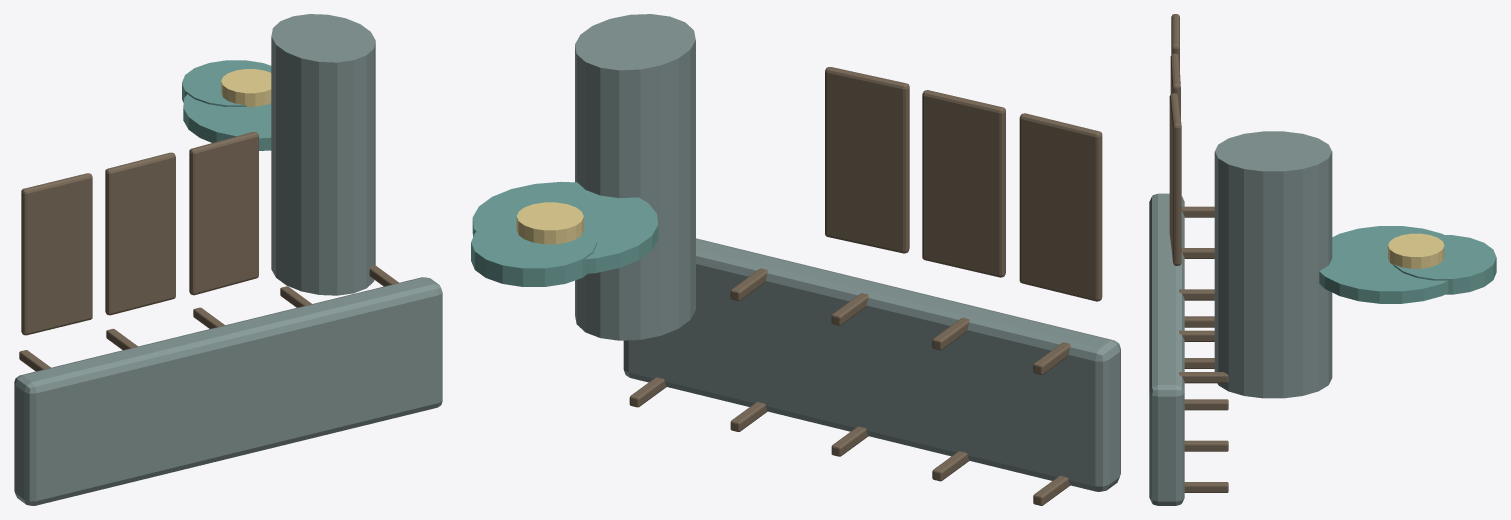
Rendered from region-mist-landmark.glb.
3 renders of one model, left to right at view 1: azimuth 30°, elevation 25°; view 2: azimuth 150°, elevation 25°; view 3: azimuth 270°, elevation 25°, orthographic. The views are drawn at different scales.
Parts seen in each view (by area): view 1: raised stone causeway, tapered harbor beacon, broken dock deck, broken dock deck.001, broken dock deck.002, beacon gallery, beacon copper roof, warm beacon lantern; view 2: raised stone causeway, tapered harbor beacon, broken dock deck.002, broken dock deck.001, broken dock deck, beacon gallery, beacon copper roof, warm beacon lantern; view 3: tapered harbor beacon, raised stone causeway, beacon gallery, beacon copper roof, broken dock deck.002, warm beacon lantern, causeway mooring post.009, causeway mooring post.002, causeway mooring post.003, causeway mooring post.004, broken dock deck.001, causeway mooring post.008 (+2 smaller).
Boxes of the visible parts, x1,y1,x2,y2 form: raised stone causeway: [14, 277, 442, 505]; tapered harbor beacon: [271, 14, 375, 295]; broken dock deck: [21, 173, 92, 335]; broken dock deck.001: [105, 152, 175, 315]; broken dock deck.002: [189, 132, 258, 295]; beacon gallery: [183, 94, 271, 150]; beacon copper roof: [182, 60, 271, 106]; warm beacon lantern: [221, 69, 271, 106]; raised stone causeway: [623, 238, 1120, 491]; tapered harbor beacon: [575, 14, 695, 340]; broken dock deck.002: [825, 67, 909, 253]; broken dock deck.001: [922, 90, 1005, 277]; broken dock deck: [1019, 113, 1102, 301]; beacon gallery: [472, 182, 658, 273]; beacon copper roof: [471, 217, 596, 286]; warm beacon lantern: [516, 202, 583, 244]; tapered harbor beacon: [1214, 131, 1332, 398]; raised stone causeway: [1149, 193, 1184, 505]; beacon gallery: [1319, 226, 1448, 303]; beacon copper roof: [1393, 235, 1496, 294]; broken dock deck.002: [1169, 93, 1181, 265]; warm beacon lantern: [1388, 233, 1444, 268]; causeway mooring post.009: [1179, 372, 1228, 383]; causeway mooring post.002: [1184, 399, 1228, 410]; causeway mooring post.003: [1184, 440, 1228, 451]; causeway mooring post.004: [1184, 482, 1228, 492]; broken dock deck.001: [1170, 53, 1180, 118]; causeway mooring post.008: [1179, 330, 1214, 341].
Size of the model in its own units: 12.28 by 9.3 by 8.87.
